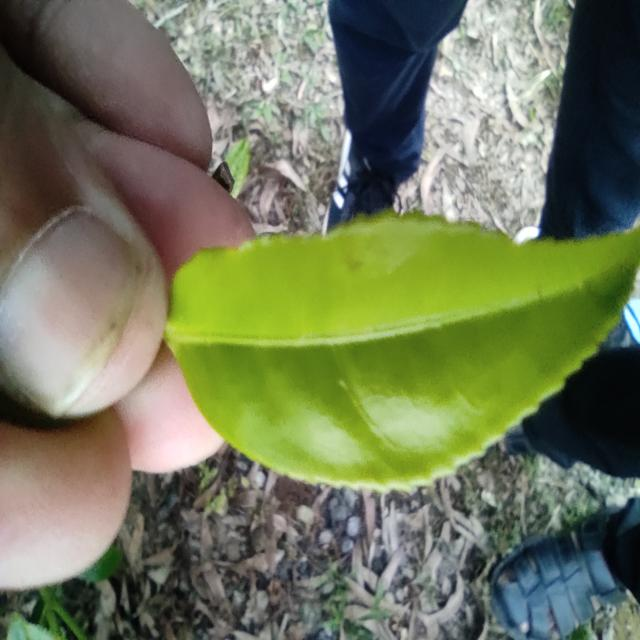Category C(4-7 days): (135, 137, 640, 523)
